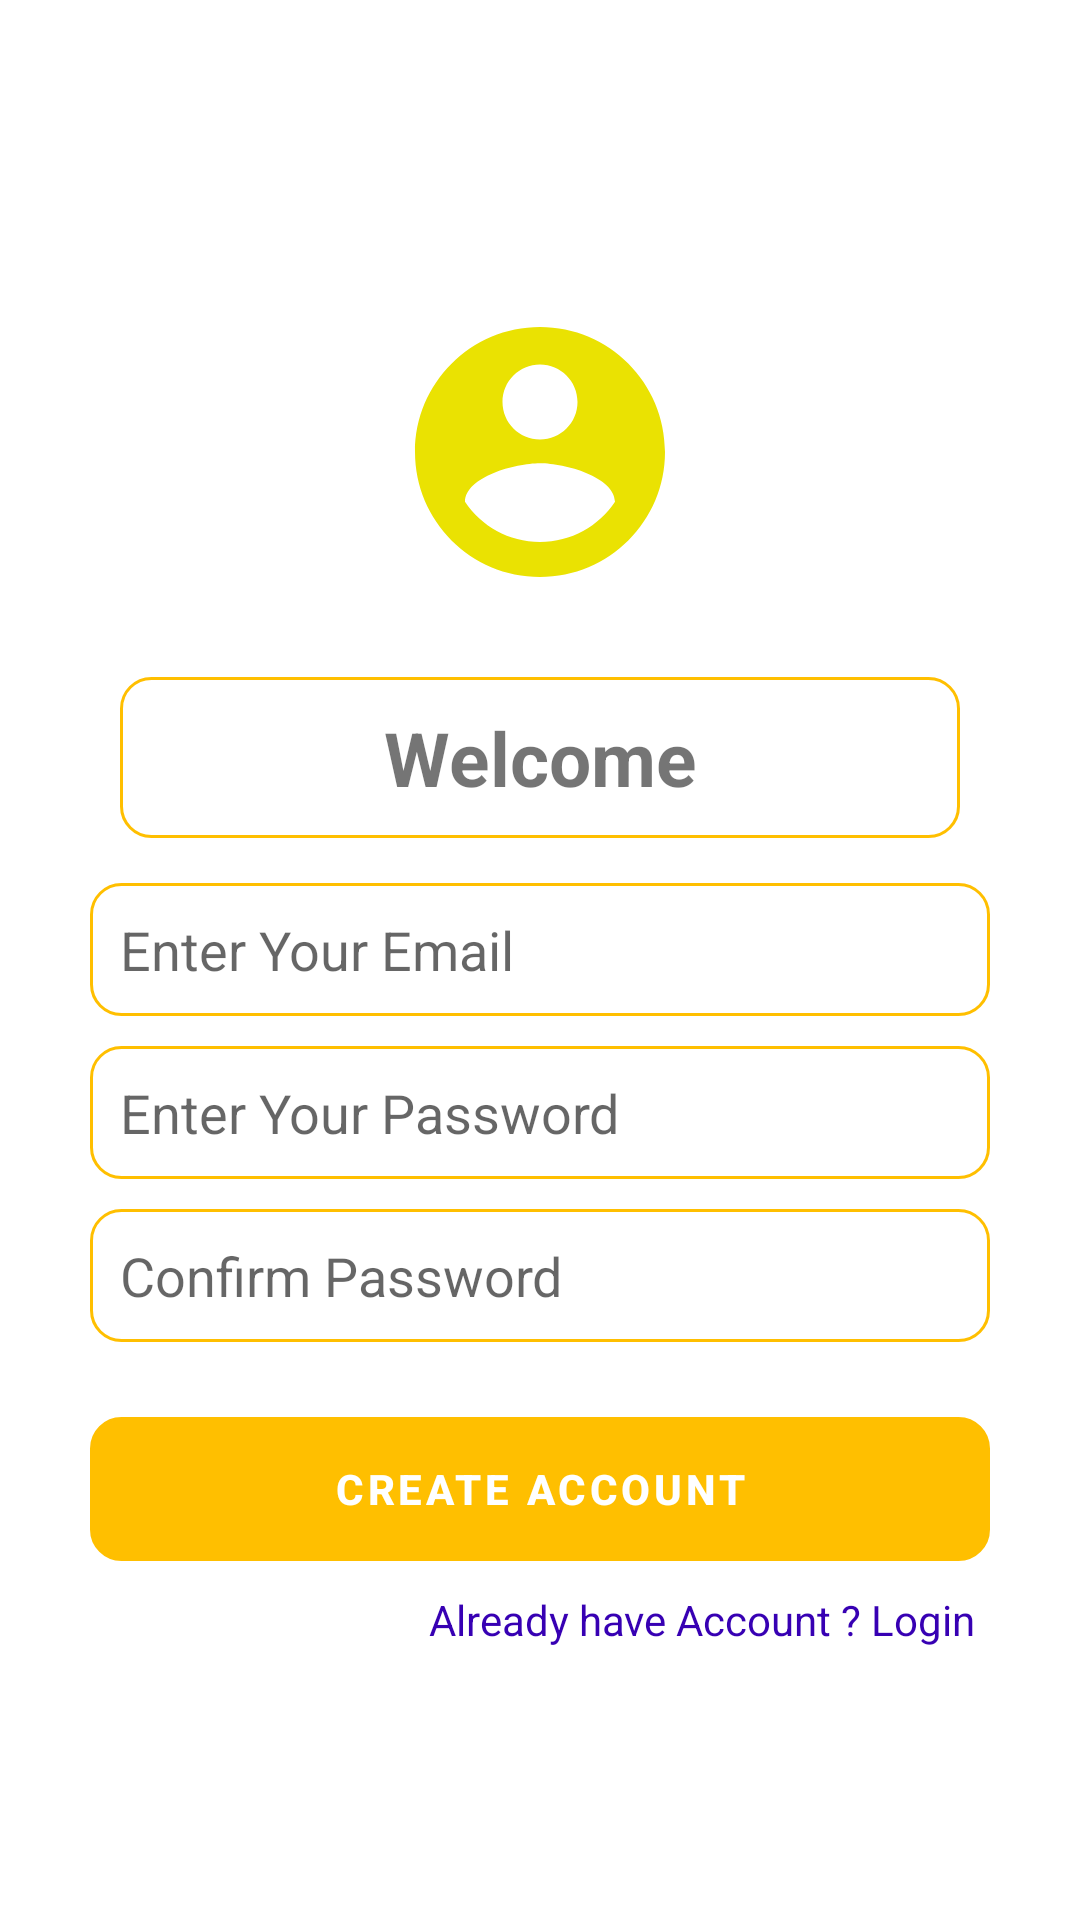

Locate icon controls on the screen. Image size 1080×1920, boxes as (x1, y1, x2, y2).
account: (415, 327, 665, 577)
